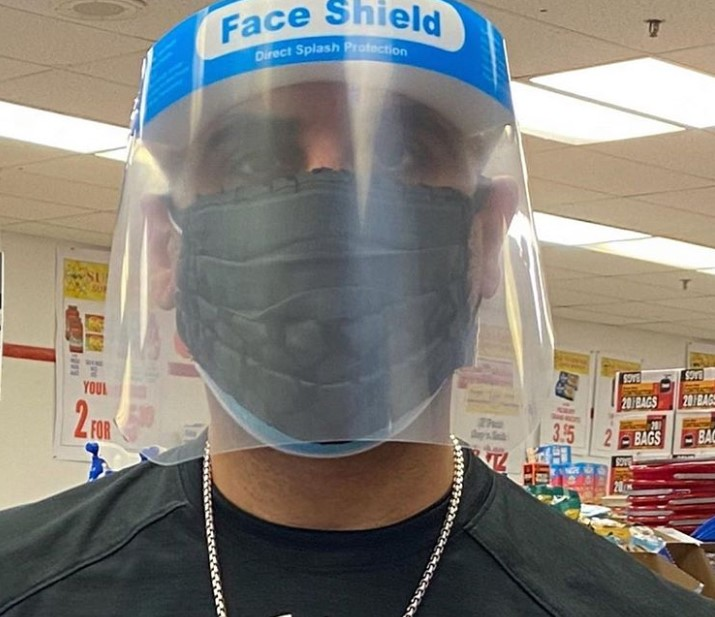face_with_mask: (106, 3, 560, 465)
